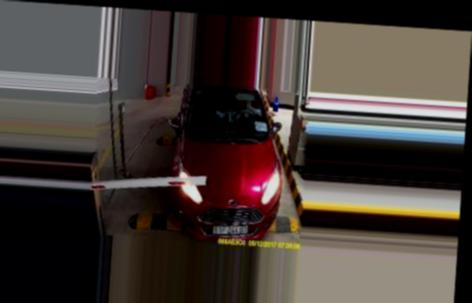License_Plate: (212, 225, 249, 237)
